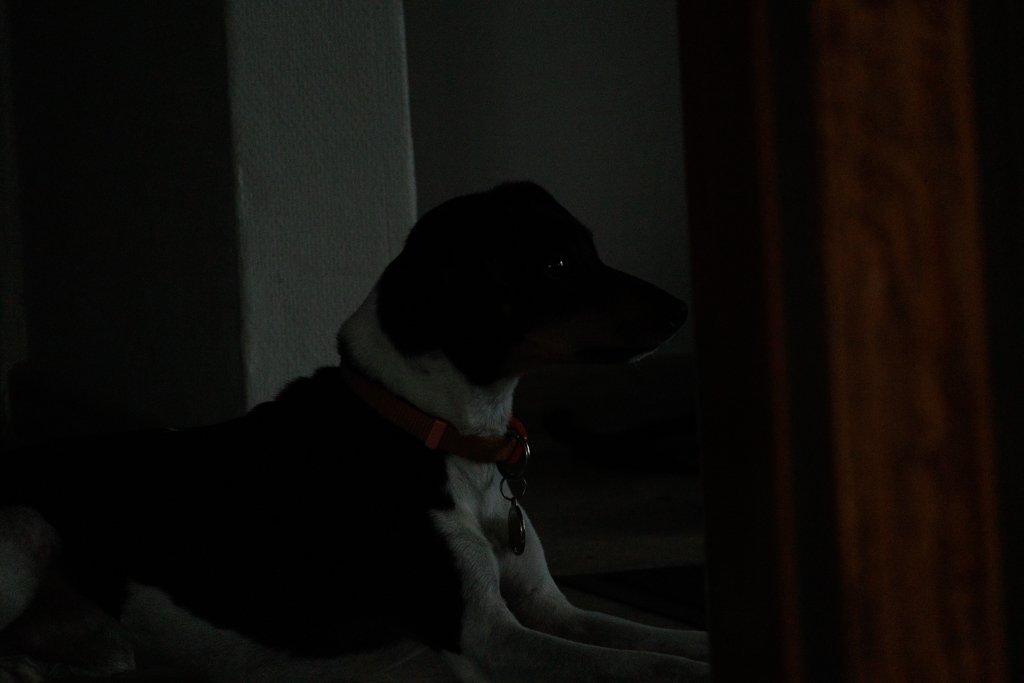Dog: (0, 170, 728, 683)
